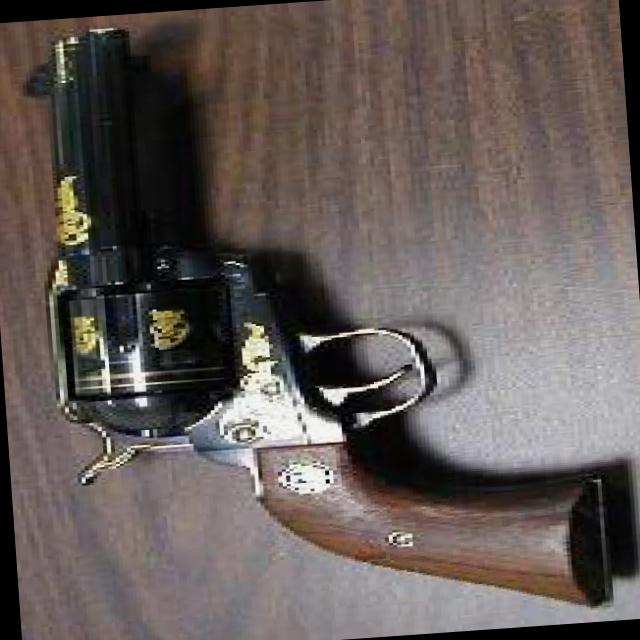handgun: (14, 0, 614, 639)
